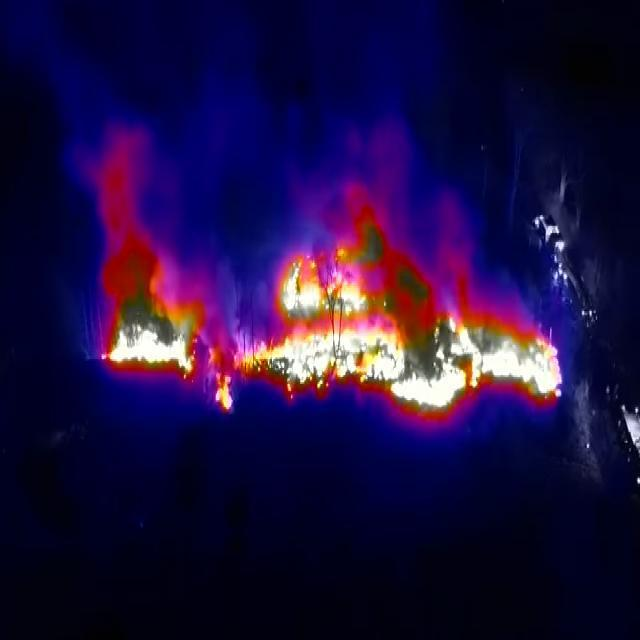fire: (256, 217, 570, 415), (106, 241, 206, 384), (208, 284, 257, 412)
